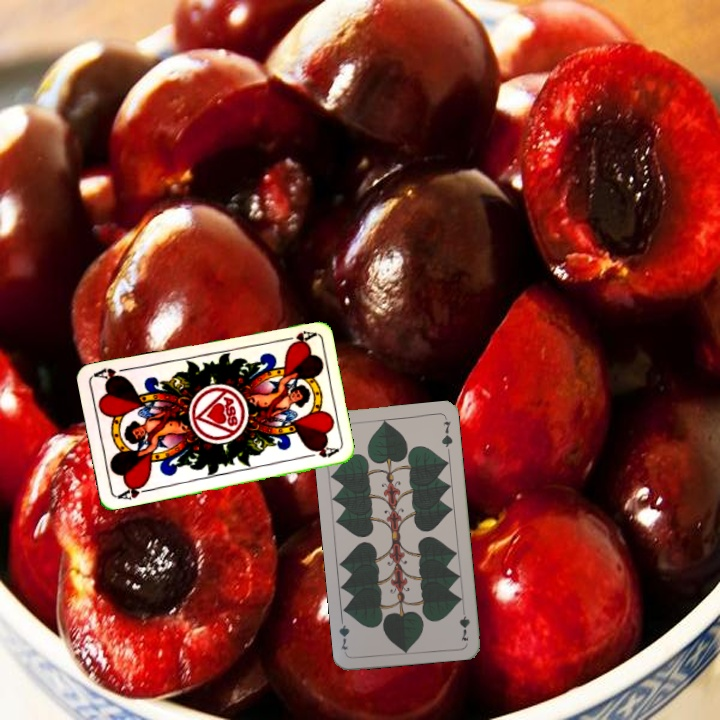G7: (455, 603, 473, 644)
HA: (276, 326, 317, 349), (114, 479, 154, 502)
